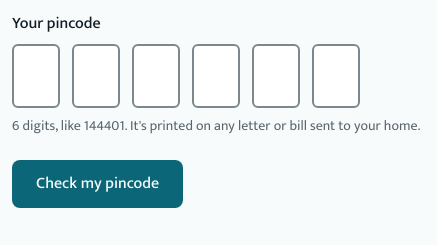
Test: PincodeInput › explains that a pincode can't start with 0
Type "012345" into the field labelled "Your pincode" at (186, 76), box 12,44 -> 360,108
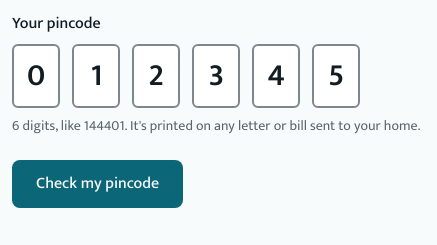
Click the button "Check my pincode" at (98, 184), box 12,160 -> 183,208
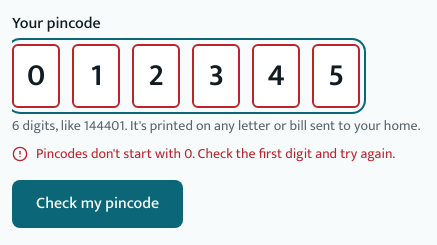
Expected: the text "Pincodes don't start with 0. Check the first digit and try again." is shown, 36,144 -> 395,164
